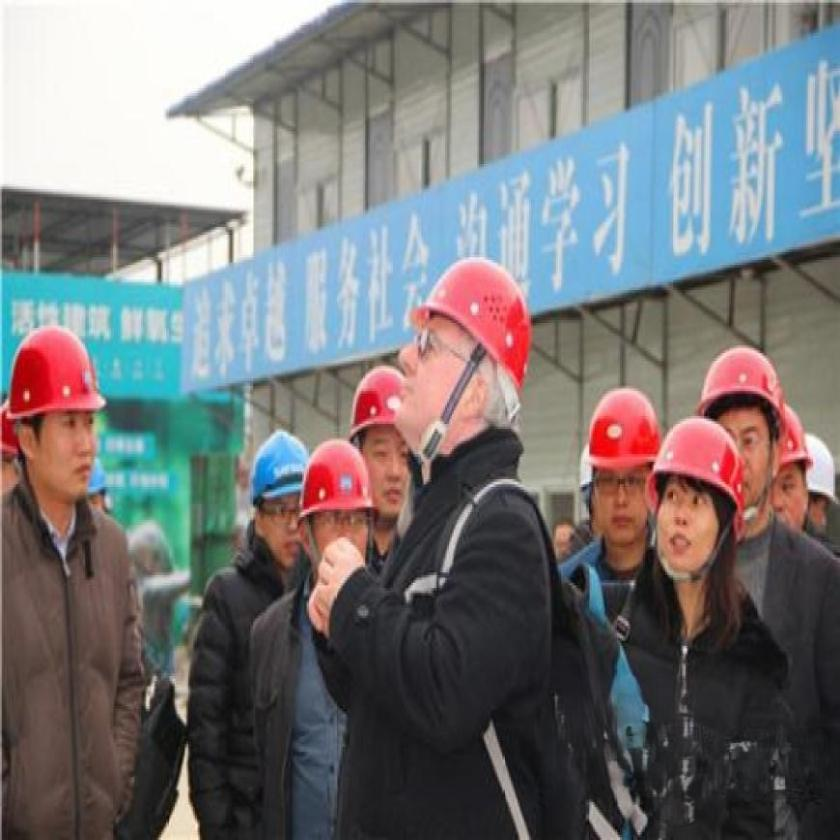Con_casco: (396, 253, 537, 464), (10, 324, 114, 516), (644, 410, 746, 599), (698, 340, 786, 516), (585, 378, 661, 569), (356, 358, 417, 537), (303, 442, 368, 585), (250, 426, 305, 555)
